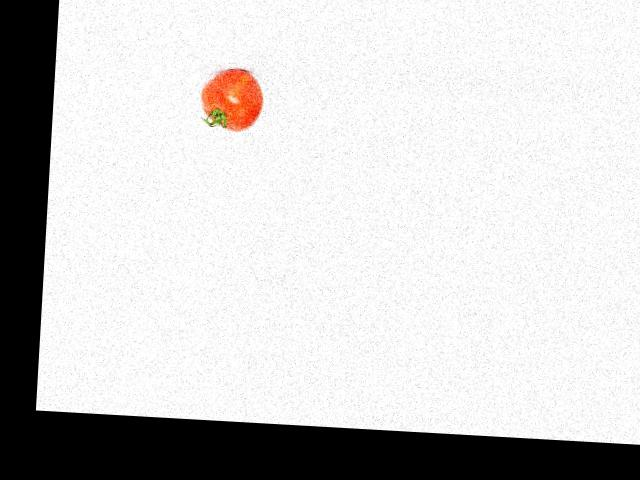tomato: (199, 67, 265, 133)
